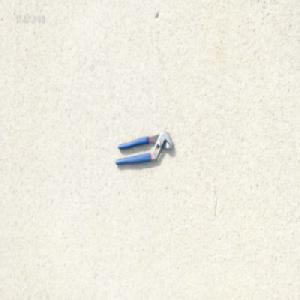Pliers: (115, 129, 175, 167)
